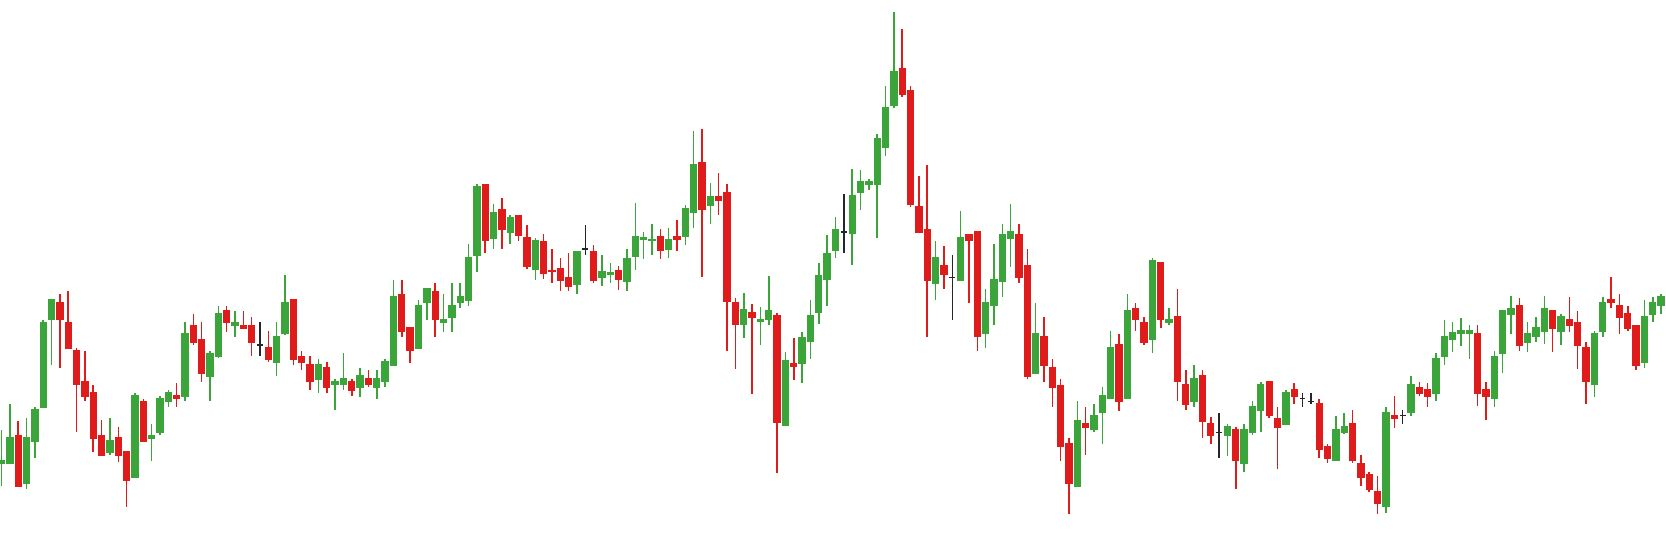buy: (1229, 403, 1390, 519), (1417, 349, 1500, 422)
sell: (688, 21, 916, 220), (212, 269, 299, 373), (954, 201, 1027, 315)
